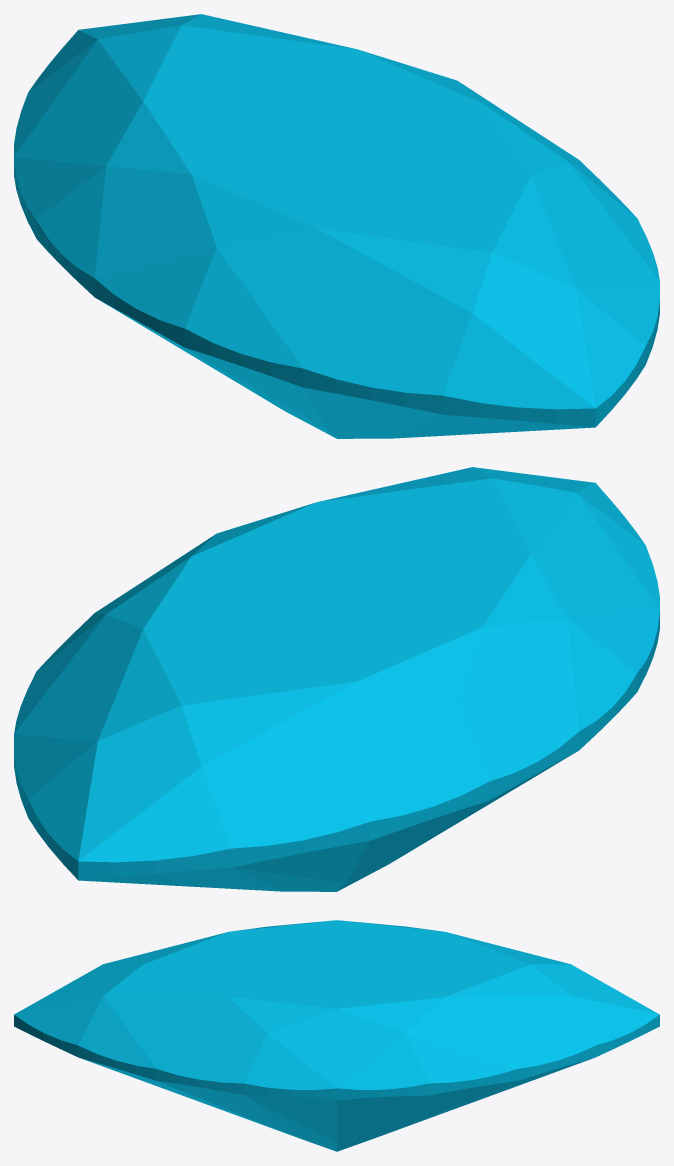
The model's file is Head_Hidden Halo_Marquise_0.75ct_Diamond.glb.
3 views of the same model, one above another, from view 1: azimuth 30°, elevation 25°; view 2: azimuth 150°, elevation 25°; view 3: azimuth 270°, elevation 25° (orthographic). The views are drawn at different scales.
Bounding box in the file's own units: 0.00471 × 0.00279 × 0.00871.
